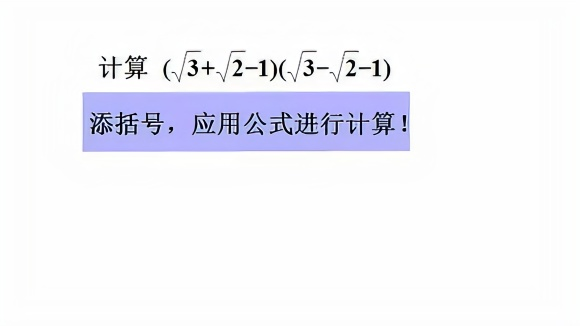sqrt: (285, 47, 320, 83), (170, 47, 203, 83), (216, 50, 249, 84), (330, 48, 361, 83)
